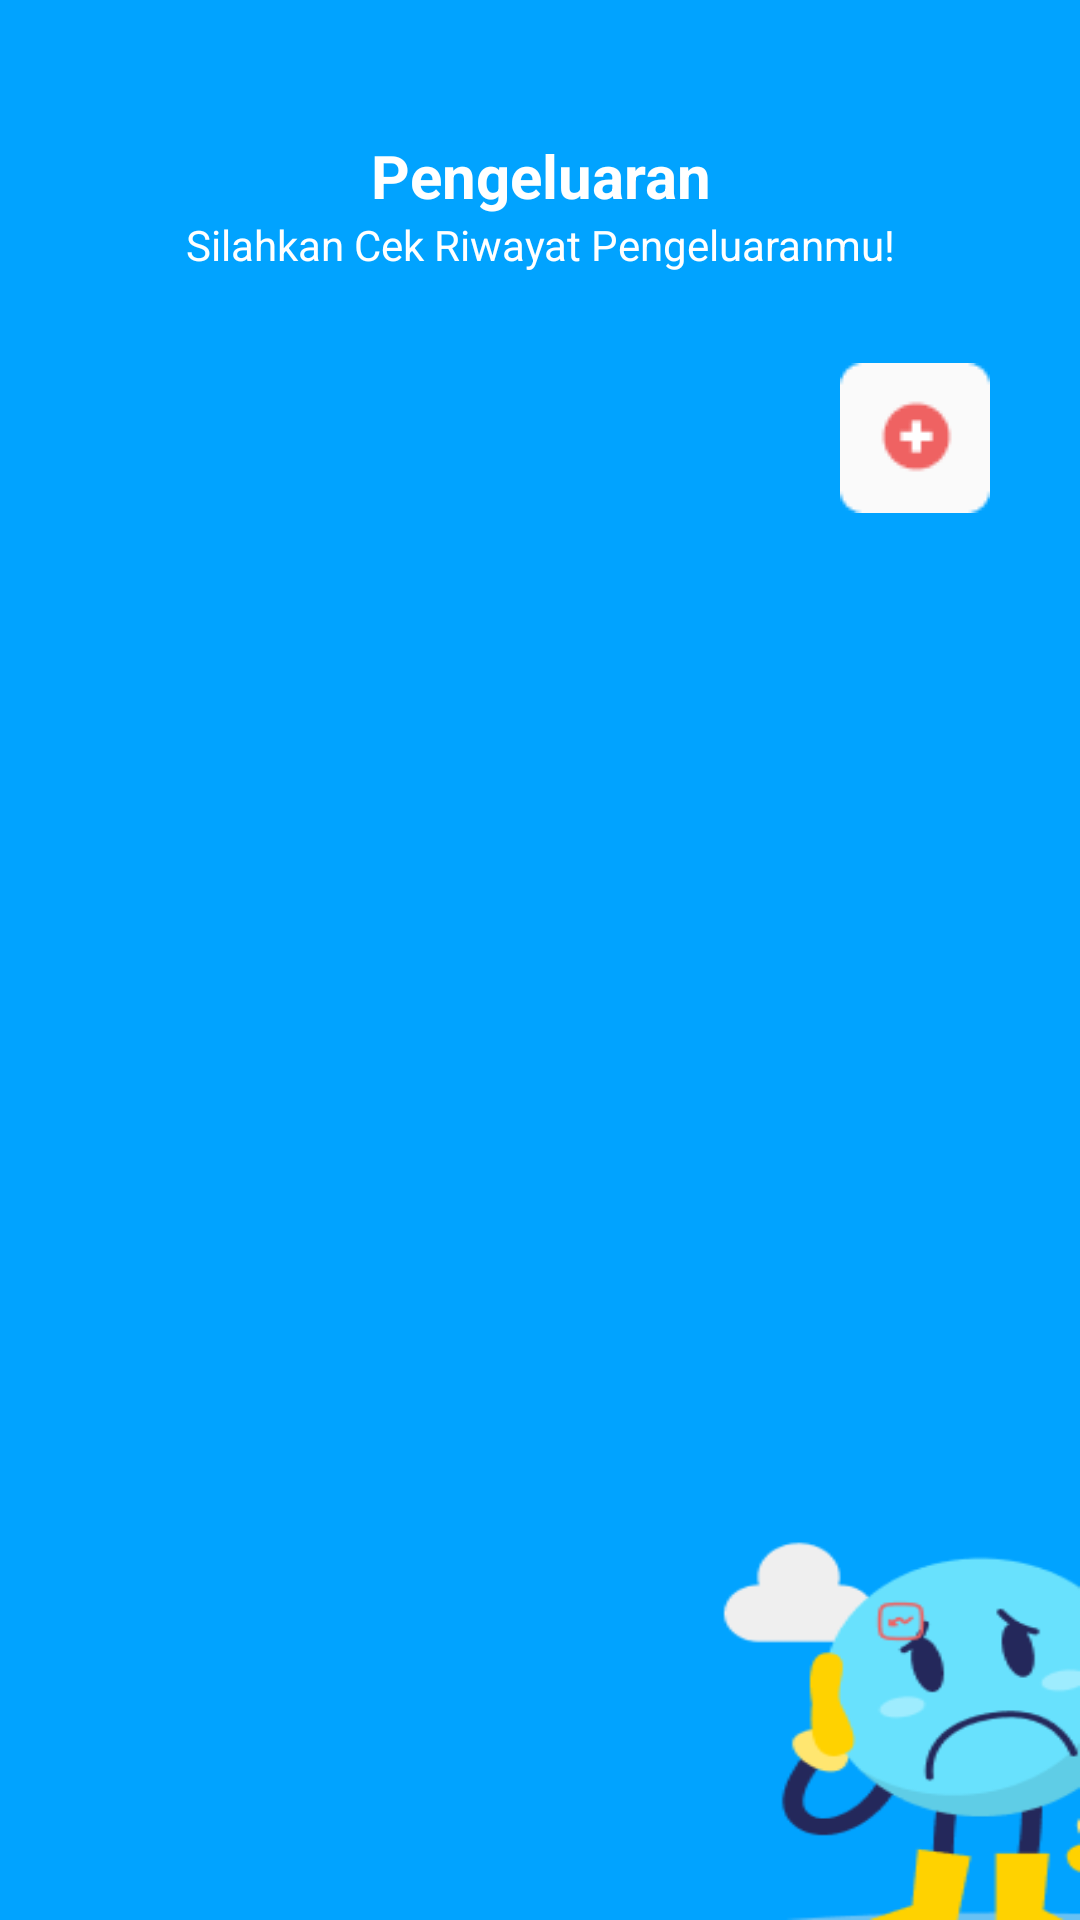

Icon bounding boxes for this 1080 × 1920 phone screenshot, format bbox(x1, y1, x2, y2):
add: bbox(840, 363, 990, 513)
